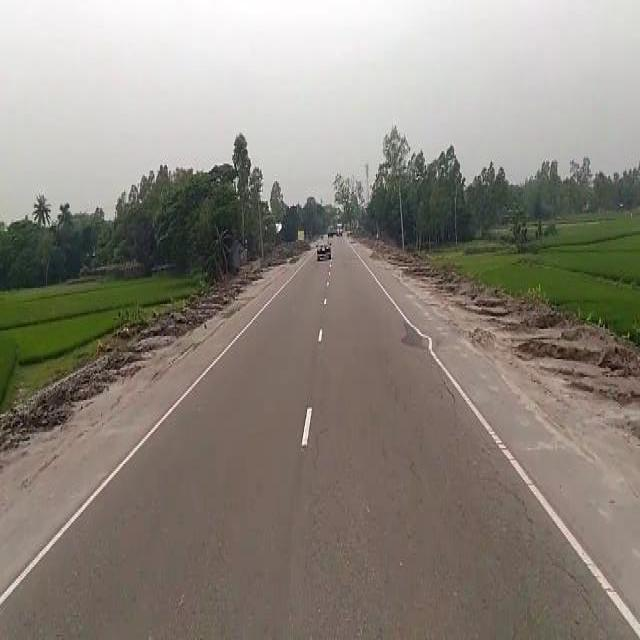car: (316, 239, 330, 259)
truck: (327, 224, 337, 235)
